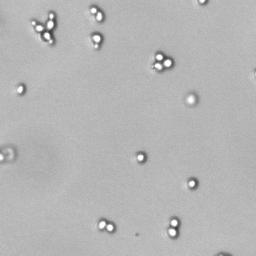budding: (88, 4, 104, 23), (168, 217, 179, 238), (96, 220, 115, 232), (90, 33, 103, 50)
cluster: (30, 12, 58, 46), (151, 51, 174, 72)
individual: (186, 93, 197, 106), (136, 152, 146, 164), (187, 178, 197, 190), (15, 84, 25, 95)
